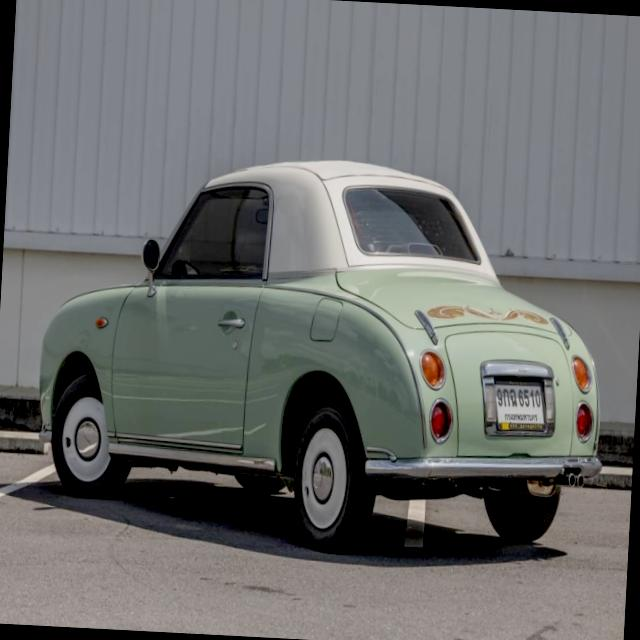license_plate: (488, 374, 550, 435)
